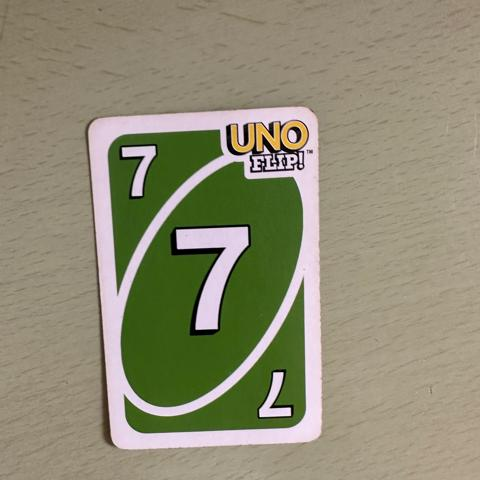0_red: (165, 220, 258, 348), (114, 142, 165, 203), (255, 368, 305, 420)
